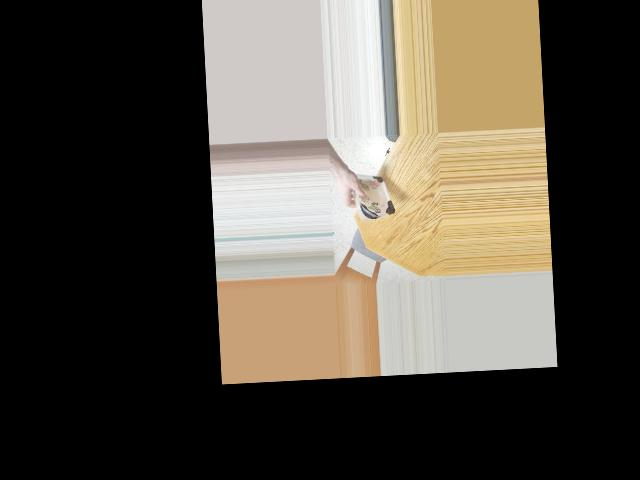cheese: (353, 170, 391, 223)
